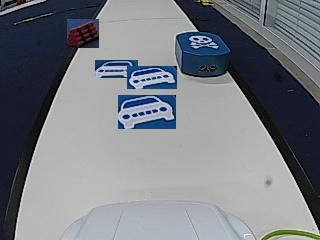danger: (189, 34, 217, 49)
